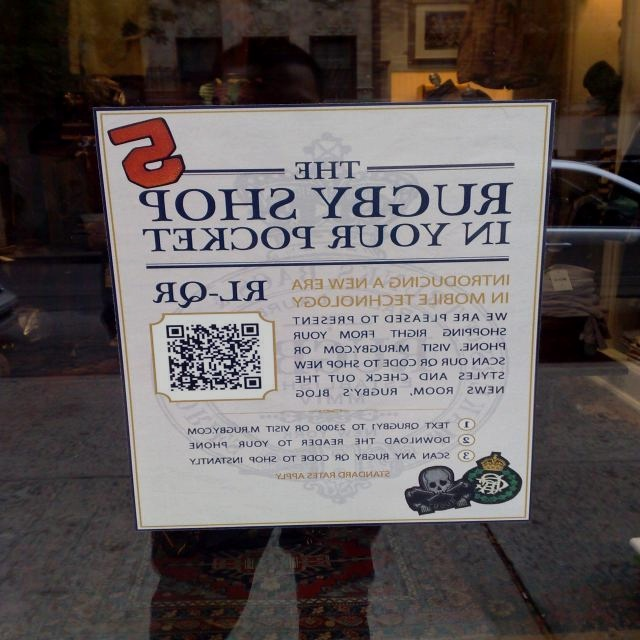qr-code: (166, 324, 262, 392)
